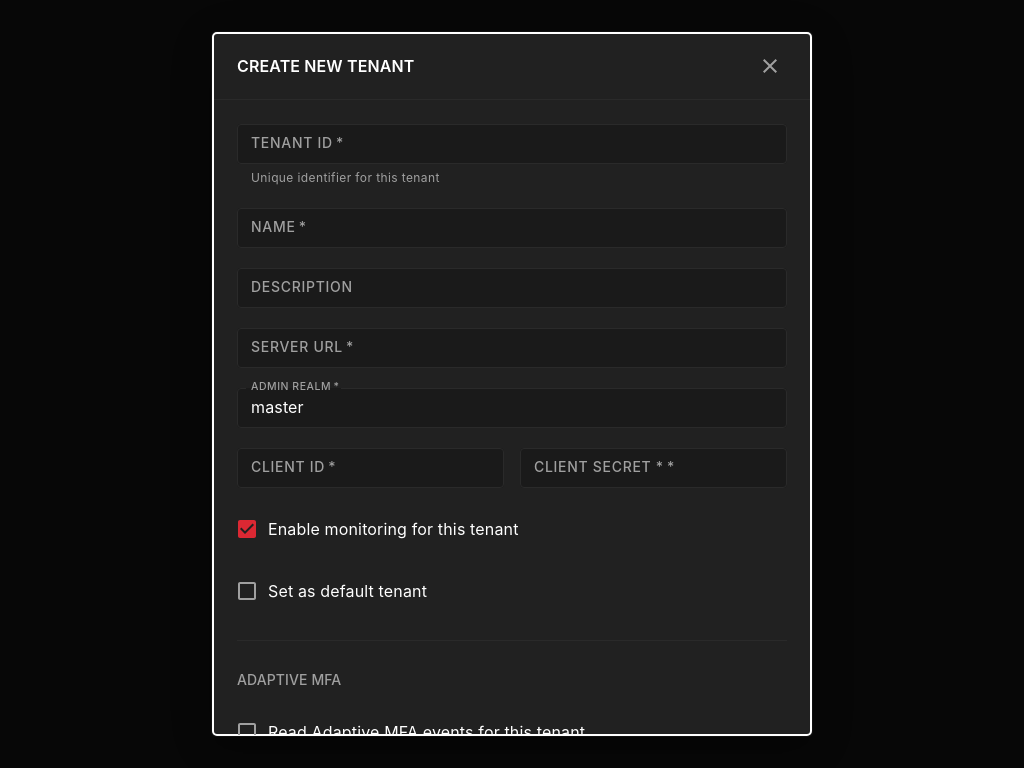
Test: TenantForm › hides the AMFA endpoint until the integration is enabled
Expected: the field labelled "amfa endpoint" is not shown
Click the checkbox labelled "Read Adaptive MFA events for this tenant".
click(410, 732)  # box left=235, top=720, right=585, bottom=744
(page scrolled)
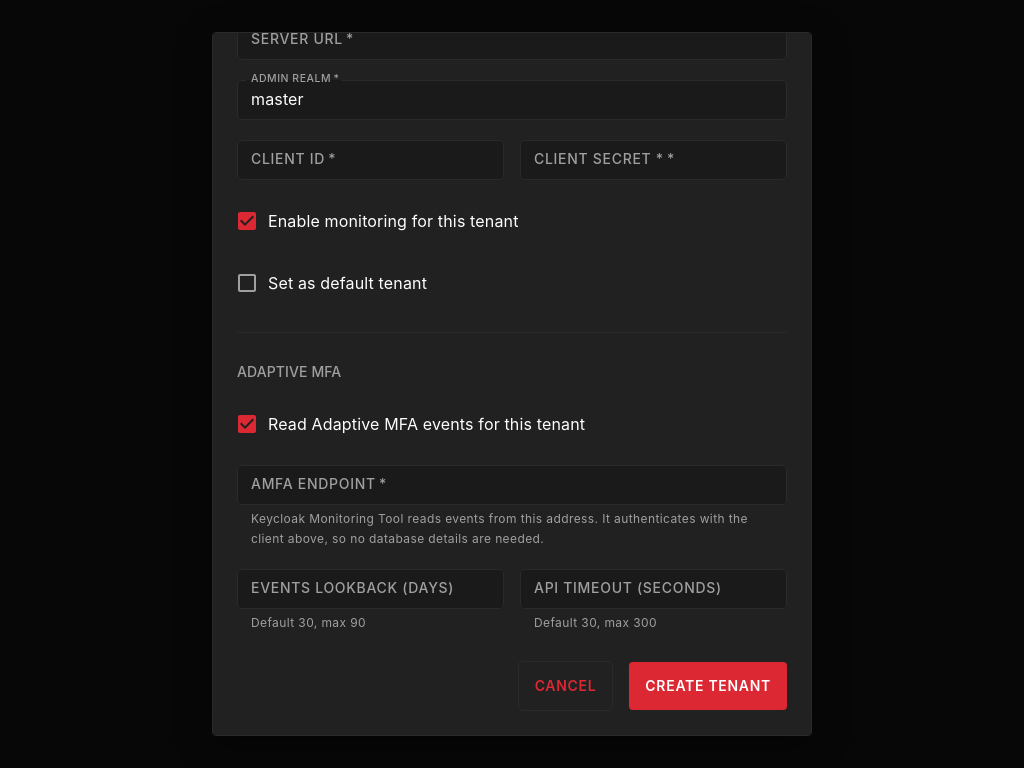
Expected: the field labelled "AMFA endpoint *" is shown, left=237, top=465, right=787, bottom=505
